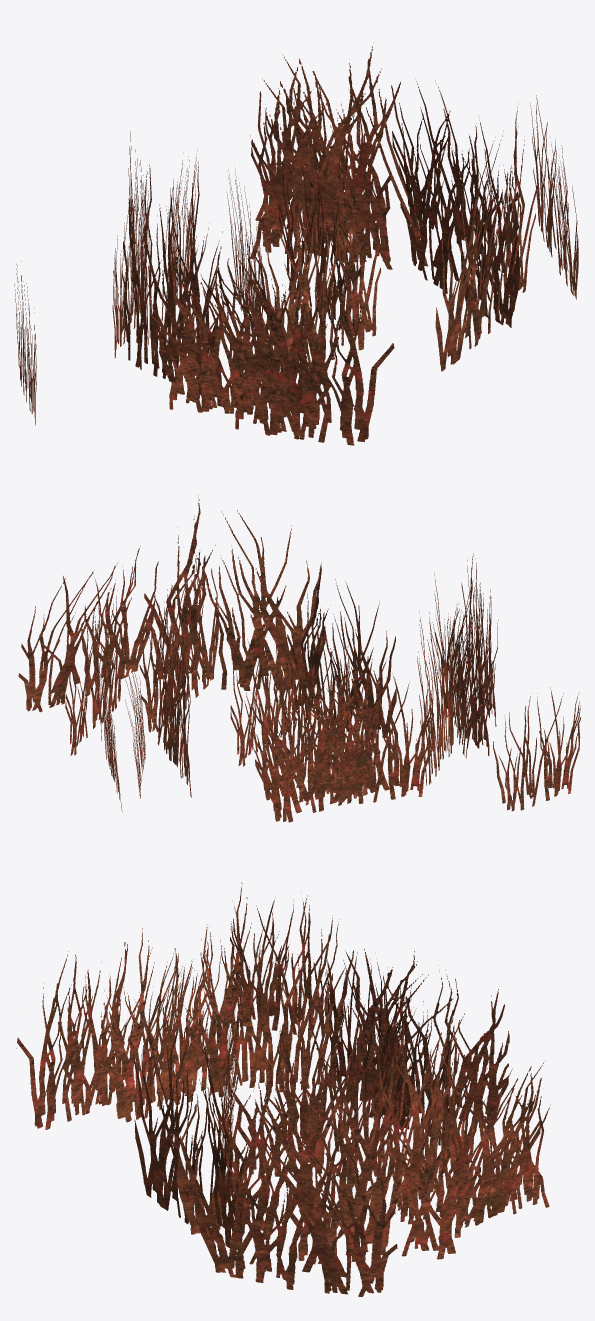
The model's file is grass_3d_01_red.glb.
3 views of the same model, one above another, from view 1: azimuth 30°, elevation 25°; view 2: azimuth 150°, elevation 25°; view 3: azimuth 270°, elevation 25° (orthographic). The views are drawn at different scales.
Parts seen in each view (by area): view 1: grass_cards; view 2: grass_cards; view 3: grass_cards.
Boxes of the visible parts, x1,y1,x2,y2 form: grass_cards: (14,46,578,445); grass_cards: (18,495,580,822); grass_cards: (16,882,550,1296).
Size of the model in its own units: 1.1 by 0.4321 by 0.9366.
Materials: 1 (1 with a texture image).
